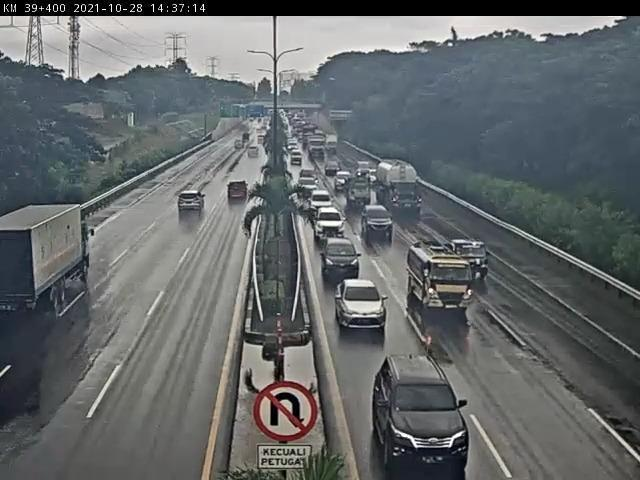car: (375, 356, 472, 471), (337, 280, 389, 331), (453, 239, 498, 292), (321, 237, 361, 282), (362, 206, 394, 241), (315, 209, 348, 242), (310, 192, 334, 216), (180, 191, 206, 212), (299, 178, 320, 197), (229, 180, 250, 199), (355, 162, 372, 180), (337, 172, 354, 190), (326, 162, 342, 176), (291, 150, 304, 165), (250, 149, 261, 158)
truck: (2, 206, 93, 313), (409, 241, 473, 315), (378, 161, 424, 214), (347, 179, 373, 208)
